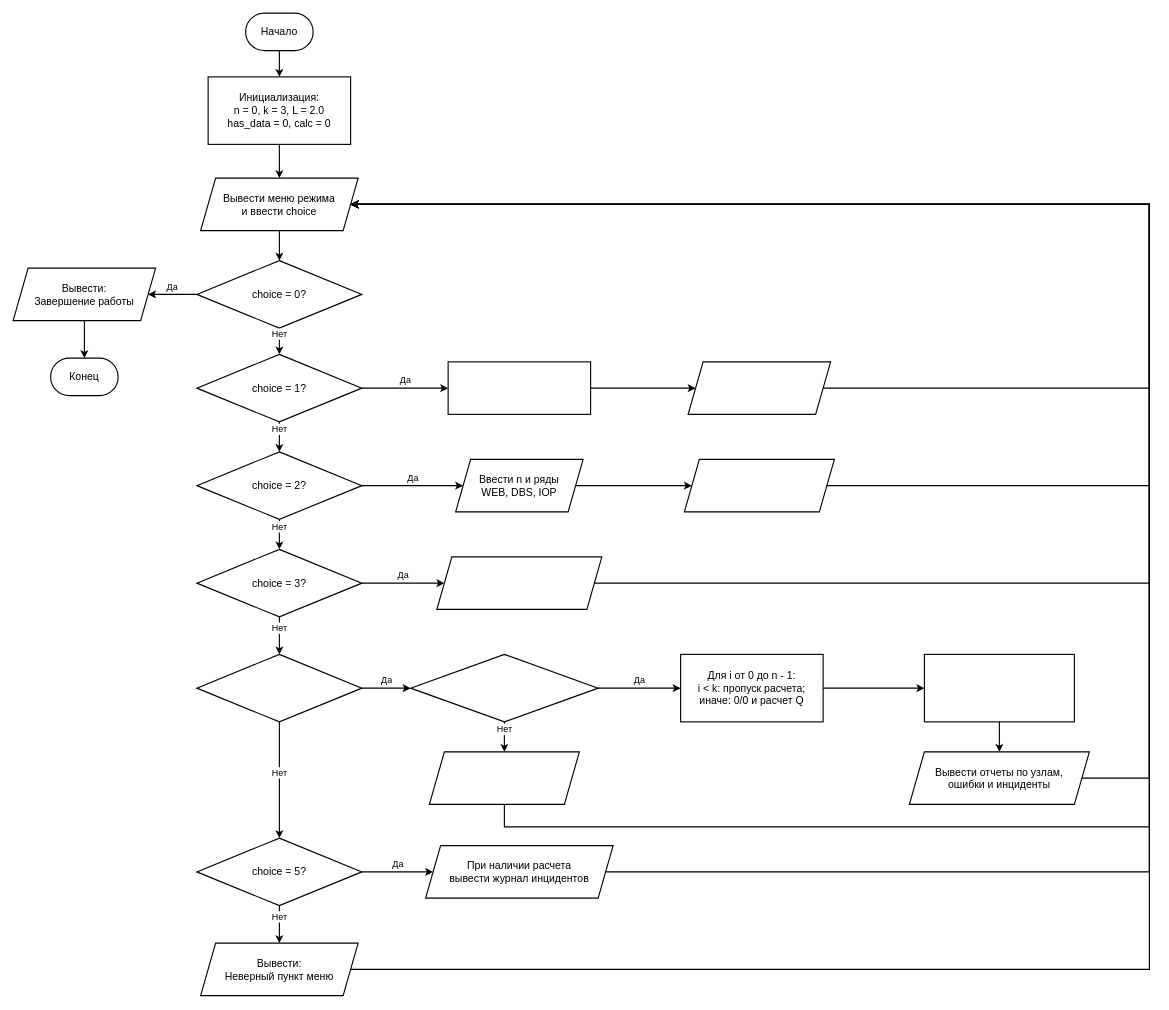
The diagram is 1169 pixels wide and 1010 high, and some of its shapes have lost their labels. Each missing label, with the centre of its shape:
choice = 4?: pixel 279 687
has_data = 1?: pixel 504 687
Ввести шаг k и порог L, проверить k >= 1 и L > 0: pixel 519 583
Вывести исходную телеметрию: pixel 759 388
Вывести сообщение о нехватке данных: pixel 504 778
Загрузить 5 отсчетов Варианта 3, n = 5: pixel 519 388
Оценка |Q| > L и поиск инцидента: WEB и другой в тревоге: pixel 999 687
Проверить ввод, вывести телеметрию: pixel 759 485
